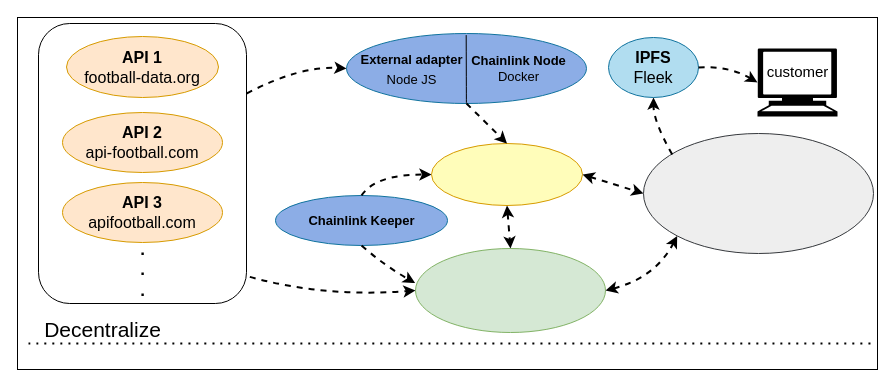
Image size: 895x387. Some labels were removed from this diagram. Here are the shapes that lost their labels. From the top down, the centre of each, then its label:
point (506, 174): Bet.sol Hardhat/Solidity
point (758, 193): Application Web NEXT.js ------------------------- Indexing The Graph
point (510, 290): BetDeployment.sol Hardhat/Solidity
